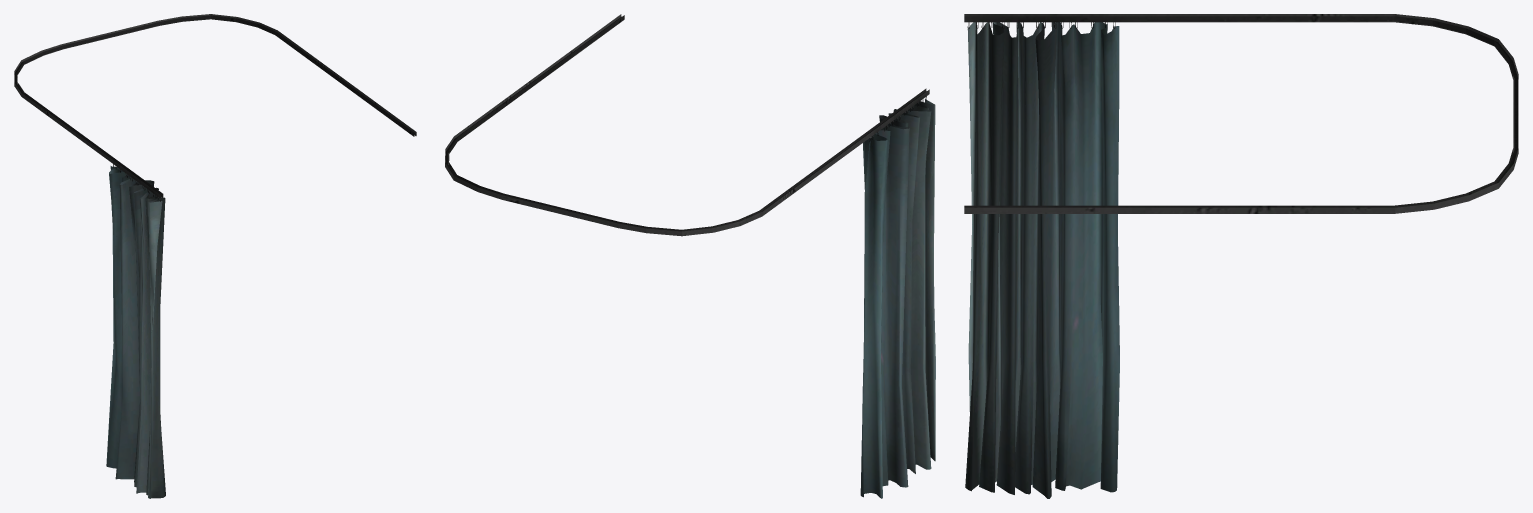
The model's file is hospitalcurtain02.glb.
The picture shows the model from 3 angles, left to right: view 1: azimuth 30°, elevation 25°; view 2: azimuth 150°, elevation 25°; view 3: azimuth 270°, elevation 25°; orthographic projection. The views are drawn at different scales.
Visible parts, largest first — view 1: hospitalcurtain02; view 2: hospitalcurtain02; view 3: hospitalcurtain02.
Boxes of the visible parts, x1,y1,x2,y2 form: hospitalcurtain02: (14,14,416,498); hospitalcurtain02: (445,14,935,498); hospitalcurtain02: (964,14,1518,498).
Bounding box in the file's own units: 1.92 × 2.07 × 2.21.
Materials: 1 (1 with a texture image).
